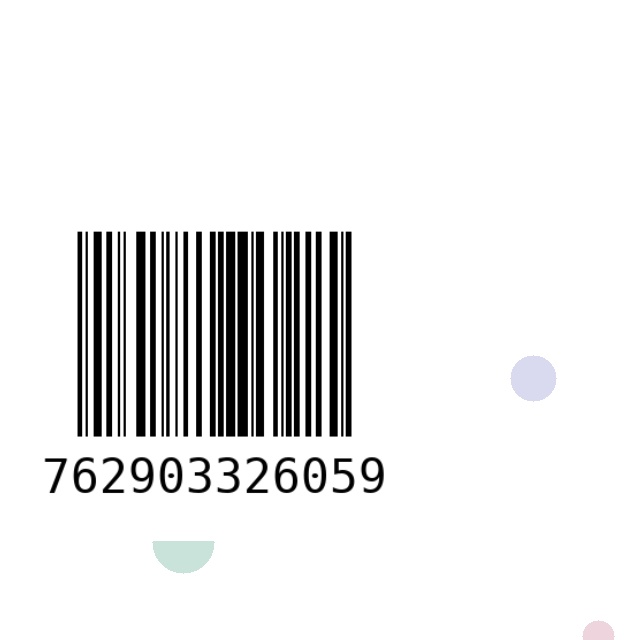barcode: (43, 219, 386, 541)
